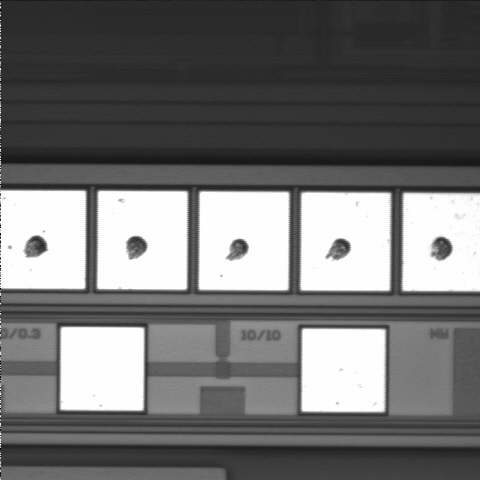pad: (97, 191, 187, 290), (199, 192, 289, 290), (301, 192, 390, 291), (61, 327, 144, 411), (302, 329, 385, 412)
